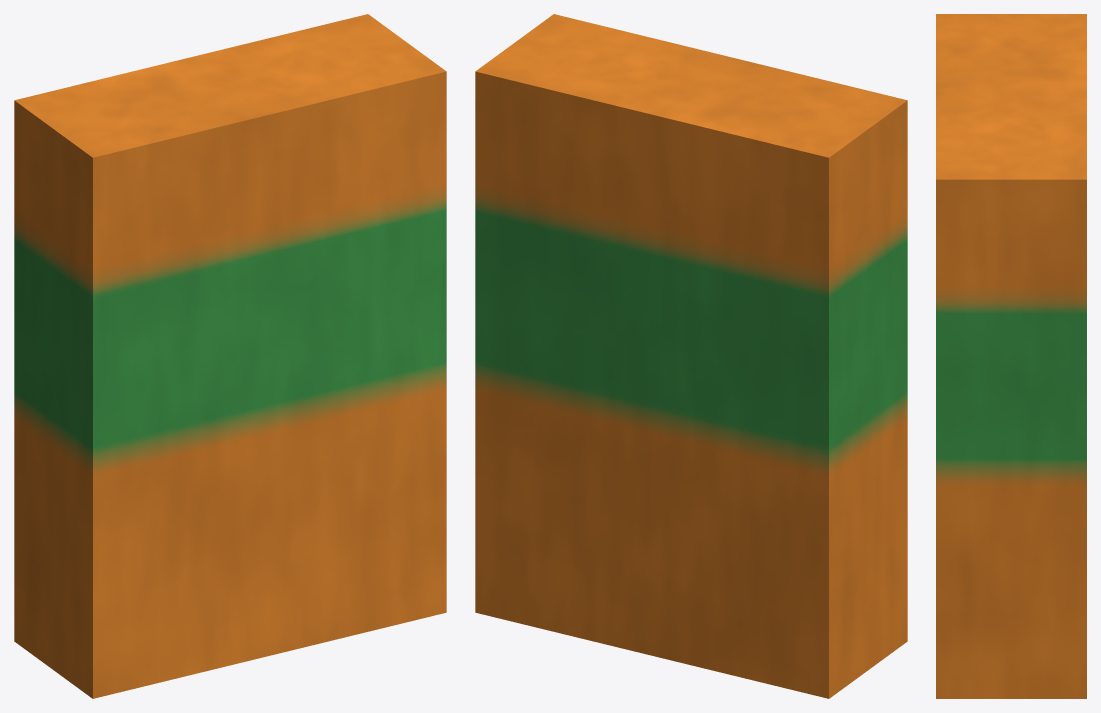
The model's file is Item_Cereal.fbx.
The picture shows the model from 3 angles, left to right: view 1: azimuth 30°, elevation 25°; view 2: azimuth 150°, elevation 25°; view 3: azimuth 270°, elevation 25°; orthographic projection. The views are drawn at different scales.
Parts seen in each view (by area): view 1: Item_Cereal; view 2: Item_Cereal; view 3: Item_Cereal.
Boxes of the visible parts, x1=… form: Item_Cereal: x1=14, y1=14, x2=446, y2=698; Item_Cereal: x1=475, y1=14, x2=907, y2=698; Item_Cereal: x1=936, y1=14, x2=1086, y2=698.
Bounding box in the file's own units: 0.26 × 0.38 × 0.1.
Materials: 1 (1 with a texture image).
